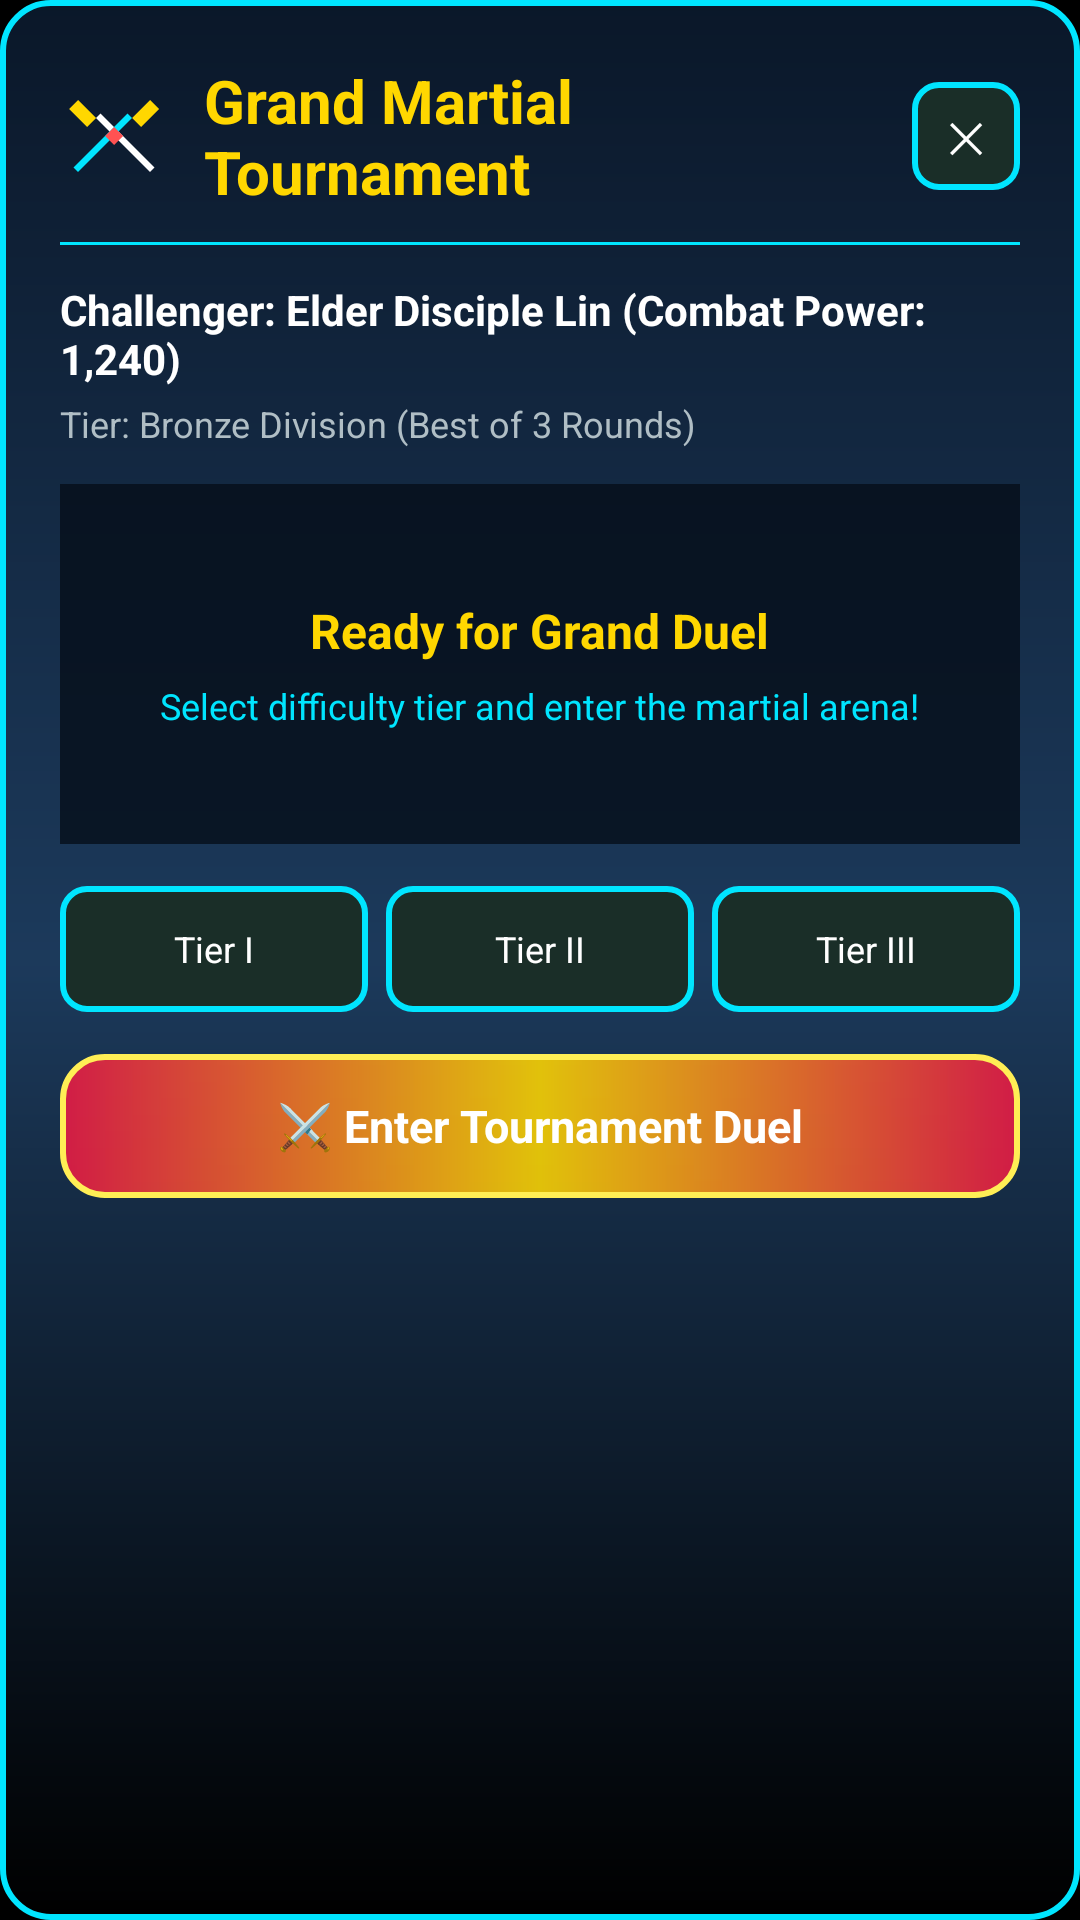

Icons on this 1080*1920 Android screen, each with its box as (x1, y1, x2, y2):
Tournament Swords: (69, 100, 159, 172)
